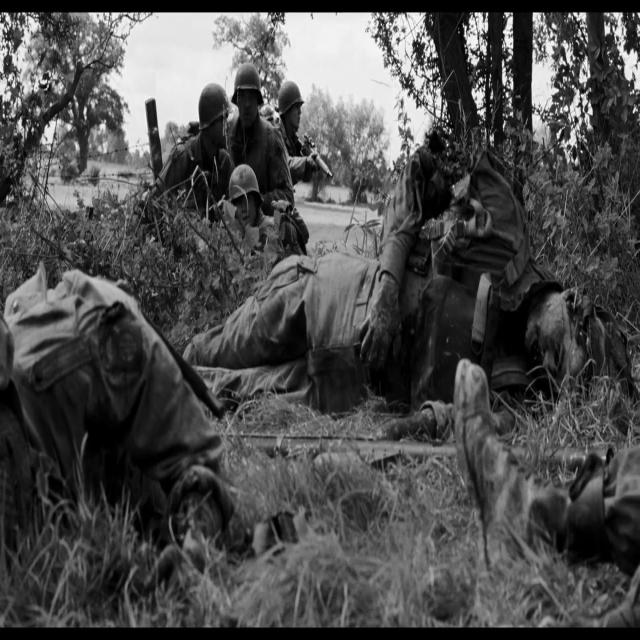Rifle: (213, 418, 632, 486)
Sniper: (297, 125, 340, 192)
